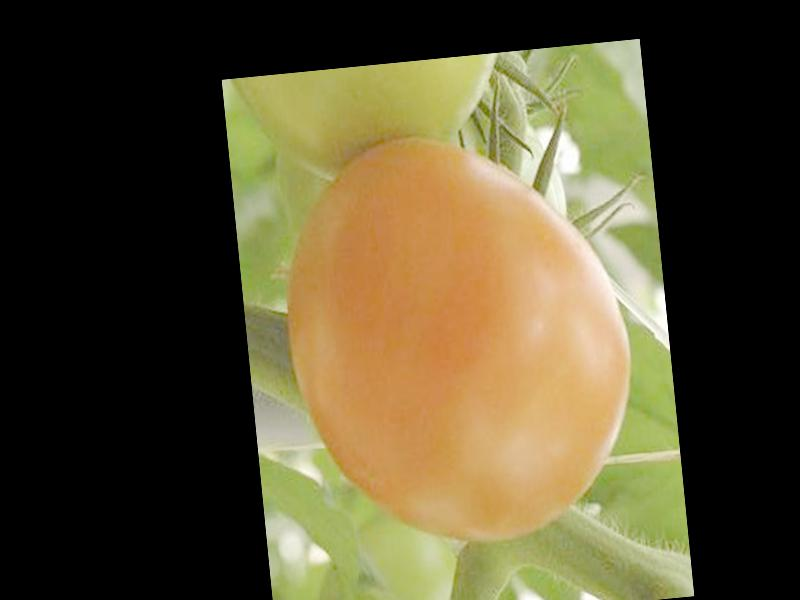Tomato: (271, 120, 648, 558)
